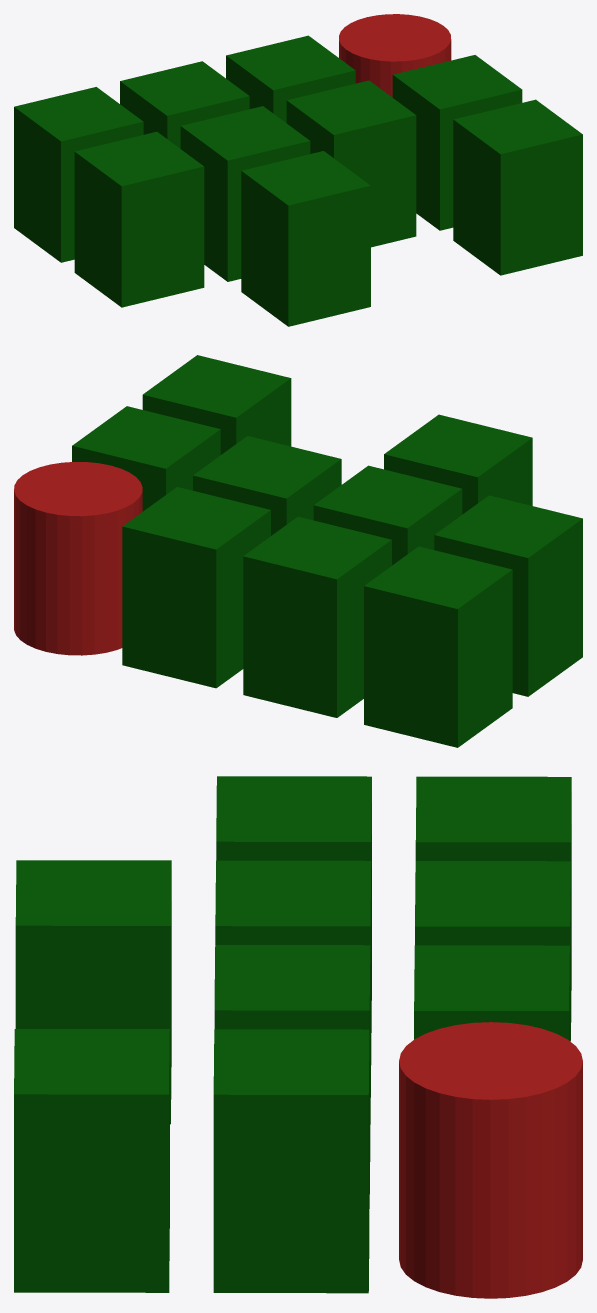
3 renders of one model, top to bottom at view 1: azimuth 30°, elevation 25°; view 2: azimuth 150°, elevation 25°; view 3: azimuth 270°, elevation 25°, orthographic. The views are drawn at different scales.
Visible parts, largest first — view 1: Circle.001, Circle.000; view 2: Circle.001, Circle.000; view 3: Circle.001, Circle.000.
Part boxes in pixels (<box>): Circle.001: <box>14,35,582,326</box>; Circle.000: <box>339,14,451,97</box>; Circle.001: <box>72,355,582,747</box>; Circle.000: <box>14,462,142,655</box>; Circle.001: <box>14,776,571,1293</box>; Circle.000: <box>399,1022,582,1298</box>.
Bounding box in the file's own units: 72.88 × 20.89 × 54.15.
